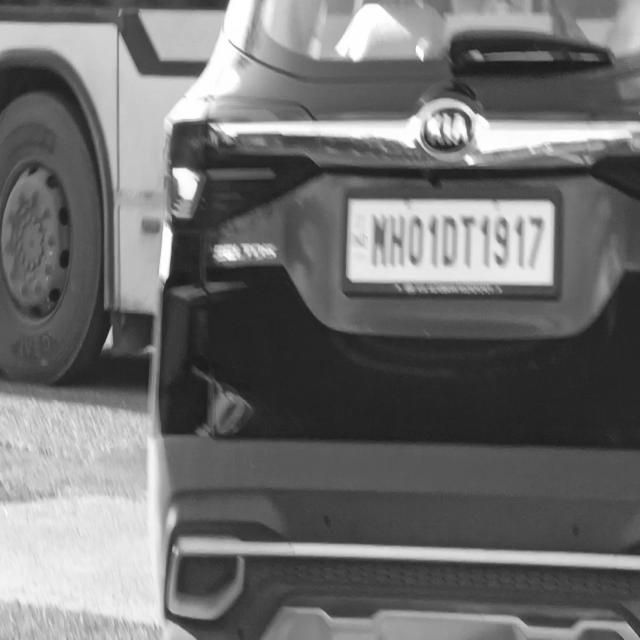license-plate: (348, 192, 559, 300)
